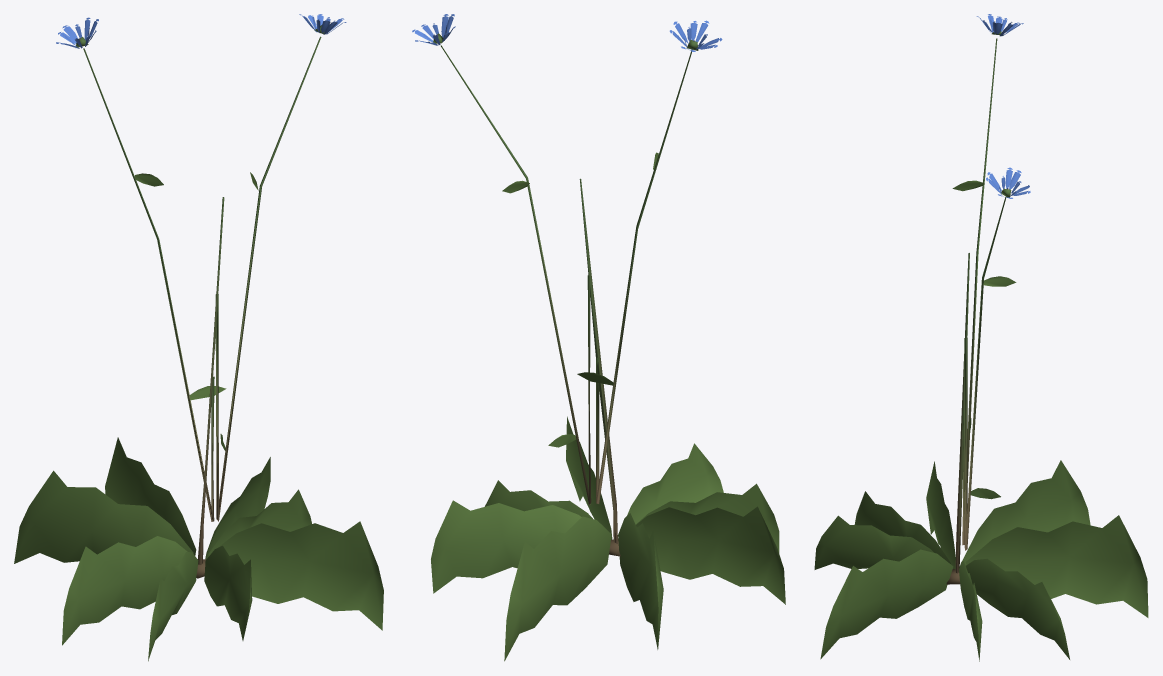
Rendered from Chicory_lod2.glb.
3 renders of one model, left to right at view 1: azimuth 30°, elevation 25°; view 2: azimuth 150°, elevation 25°; view 3: azimuth 270°, elevation 25°, orthographic. The views are drawn at different scales.
Parts seen in each view (by area): view 1: Plant_LOD2; view 2: Plant_LOD2; view 3: Plant_LOD2.
Boxes of the visible parts, <box> form: Plant_LOD2: <box>14,14,383,661</box>; Plant_LOD2: <box>412,14,785,661</box>; Plant_LOD2: <box>814,14,1148,661</box>.
Bounding box in the file's own units: 0.5562 × 0.9703 × 0.529.
